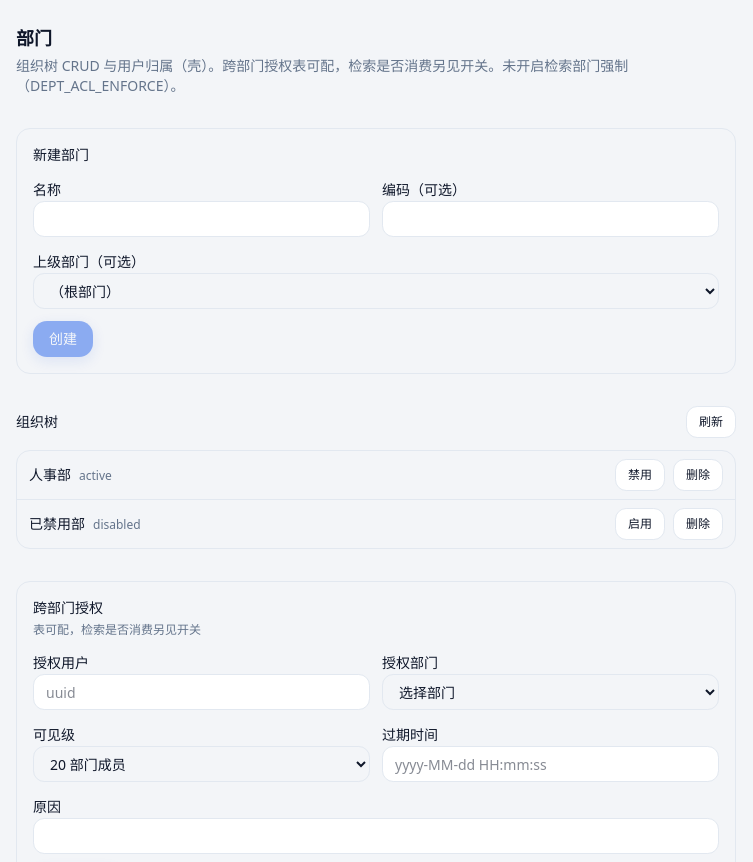
DepartmentsWorkspace › 创建失败展示 API 文案
In the field labelled "授权用户": (202, 692) 33,674 -> 370,710, type "018f0000-0000-7000-8000-0000000000u1"
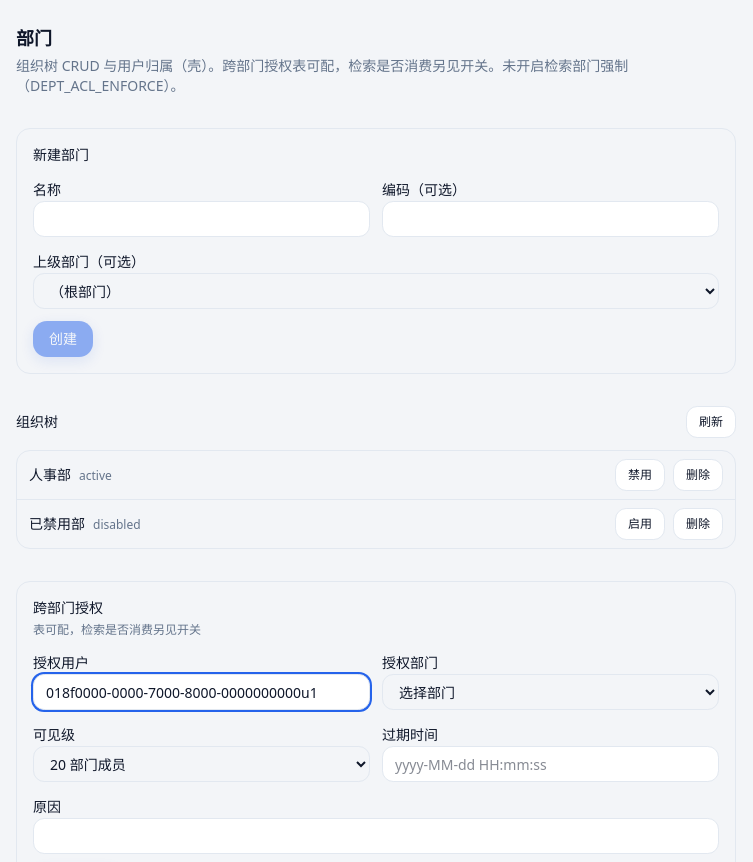
Select "人事部" in the dropdown labelled "授权部门": (550, 692) 382,674 -> 719,710
(page scrolled)
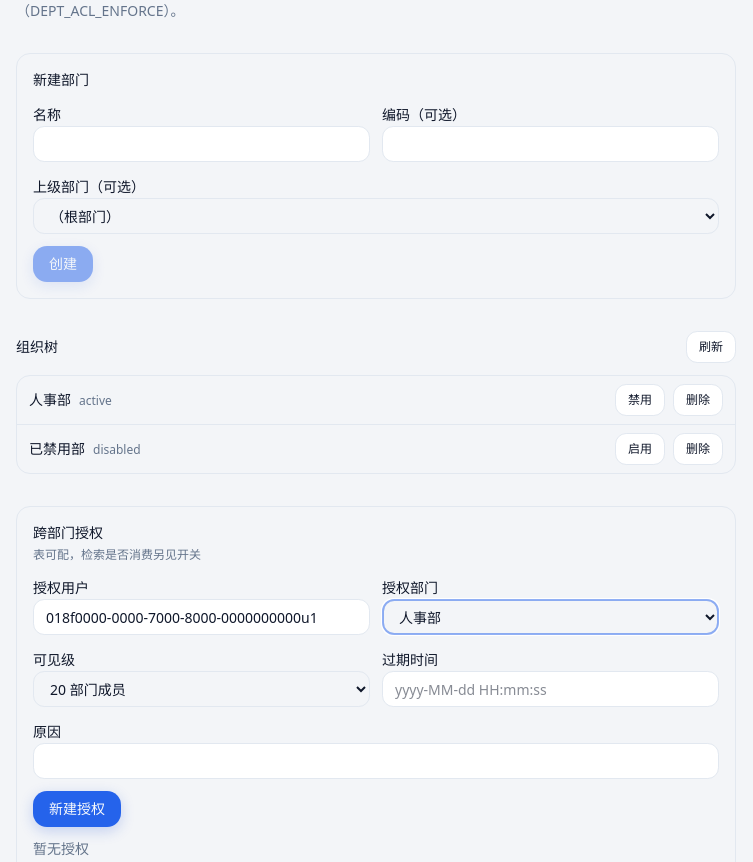
Click the button "新建授权": (77, 809) 33,791 -> 121,827
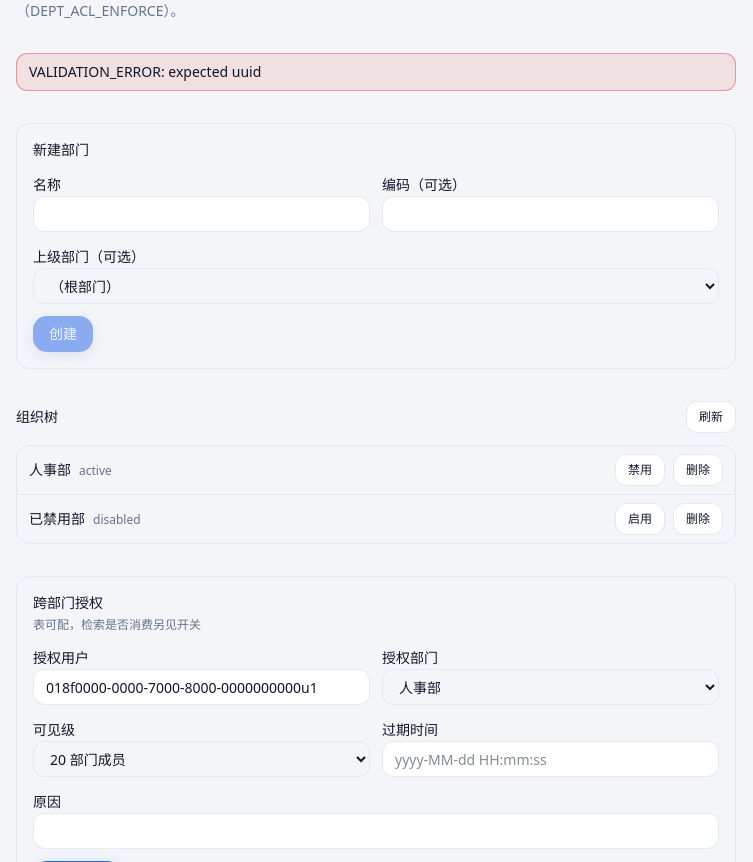
Expected: the text "VALIDATION_ERROR: expected uuid" is shown, 16,53 -> 736,91
